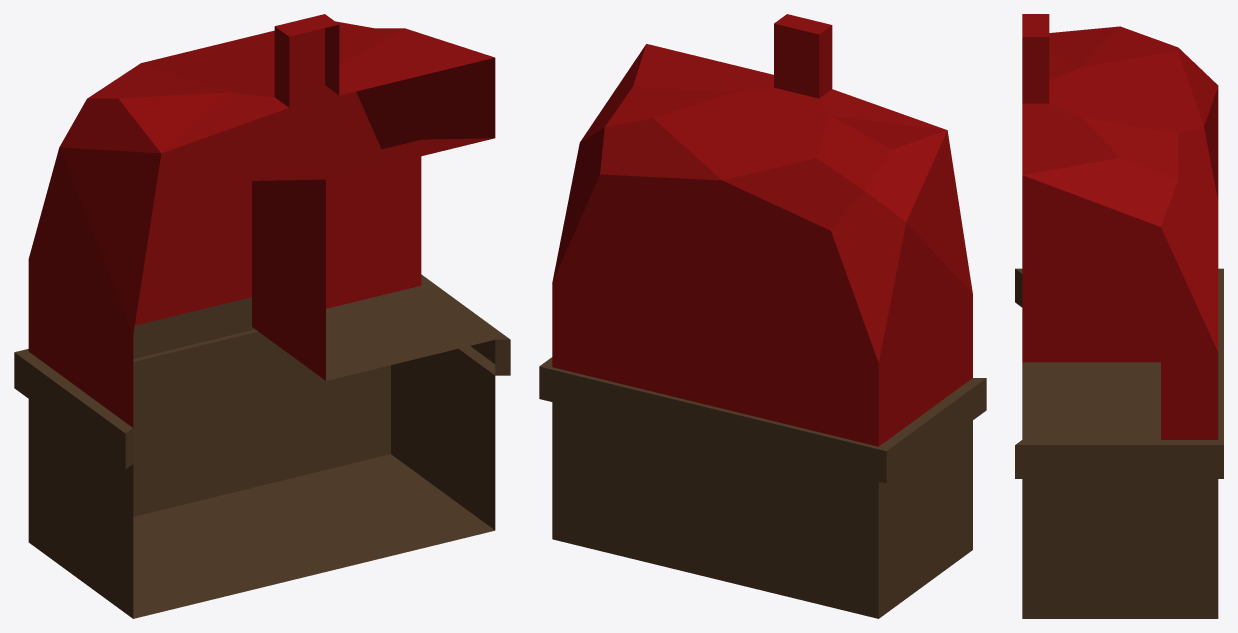
File: 2horno.glb
3 views of the same model, side by side, from view 1: azimuth 30°, elevation 25°; view 2: azimuth 150°, elevation 25°; view 3: azimuth 270°, elevation 25° (orthographic). The views are drawn at different scales.
Visible parts, largest first — view 1: Plane.001; view 2: Plane.001; view 3: Plane.001.
Part boxes in pixels (x1,y1,x2,y2): Plane.001: [14, 14, 510, 618]; Plane.001: [539, 14, 986, 618]; Plane.001: [1015, 14, 1223, 618].
Bounding box in the file's own units: 0.8509 × 1.15 × 0.4254.
